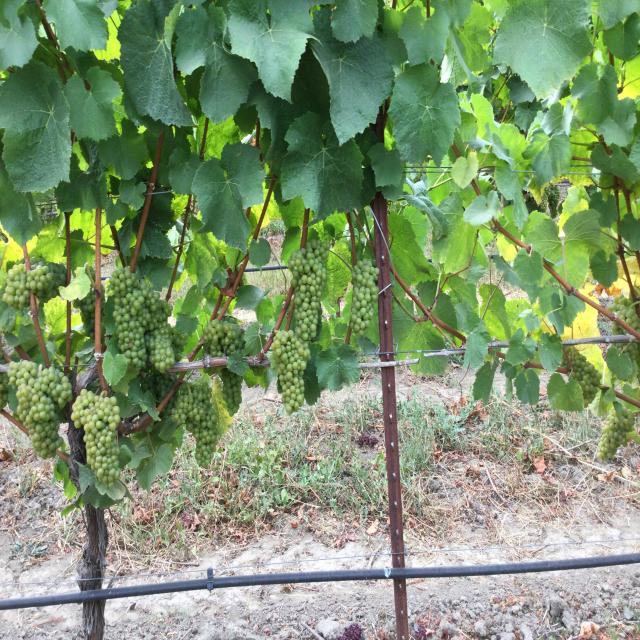grapes: (110, 267, 188, 373), (8, 360, 72, 458), (71, 390, 120, 487), (171, 380, 219, 468), (289, 240, 330, 342), (271, 330, 310, 413), (2, 262, 65, 310), (350, 258, 379, 337), (565, 347, 602, 407), (598, 407, 635, 460), (202, 317, 244, 357), (140, 372, 175, 403), (220, 368, 242, 417), (74, 287, 95, 337)
